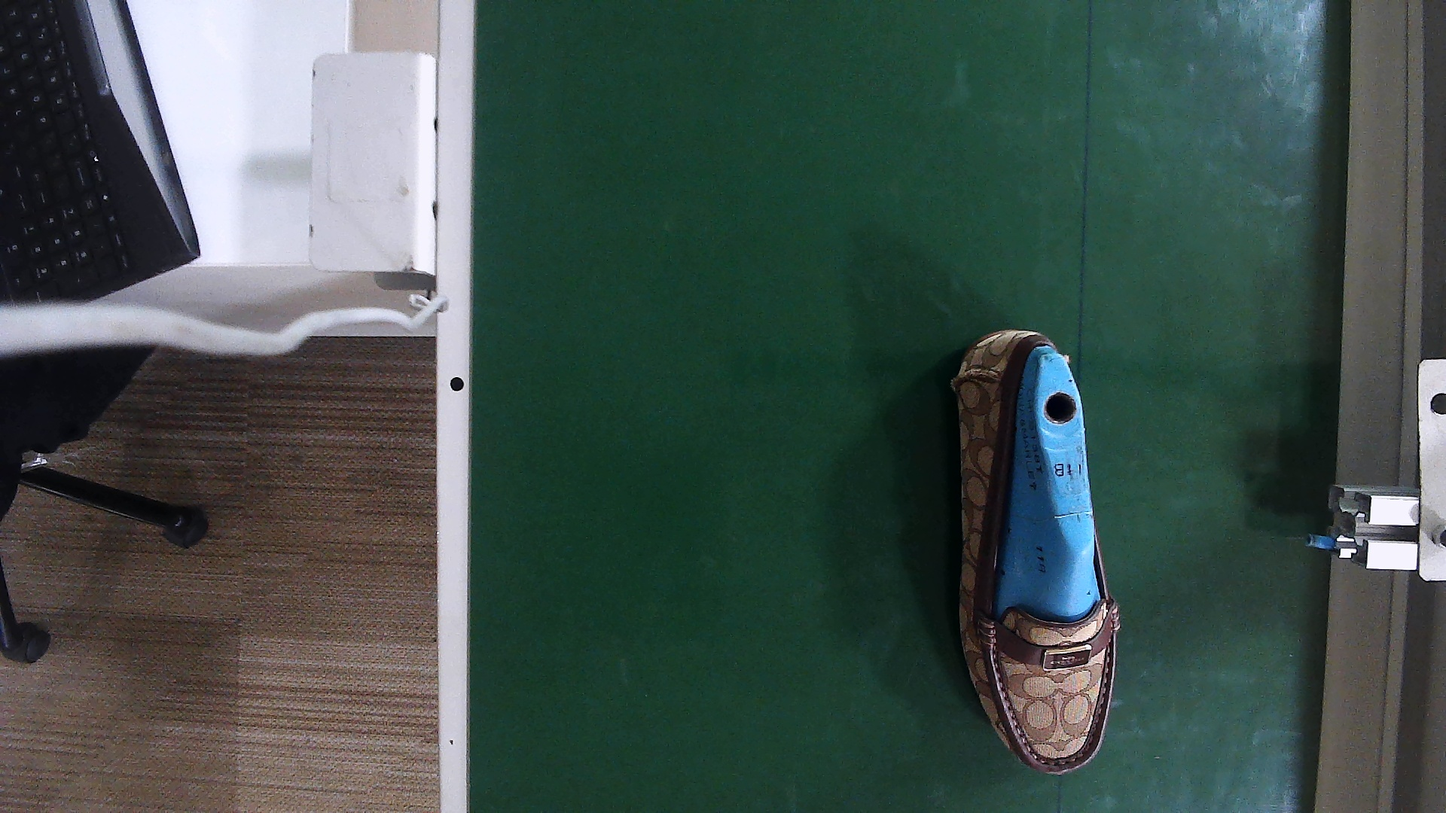shoe: (957, 332, 1116, 772)
